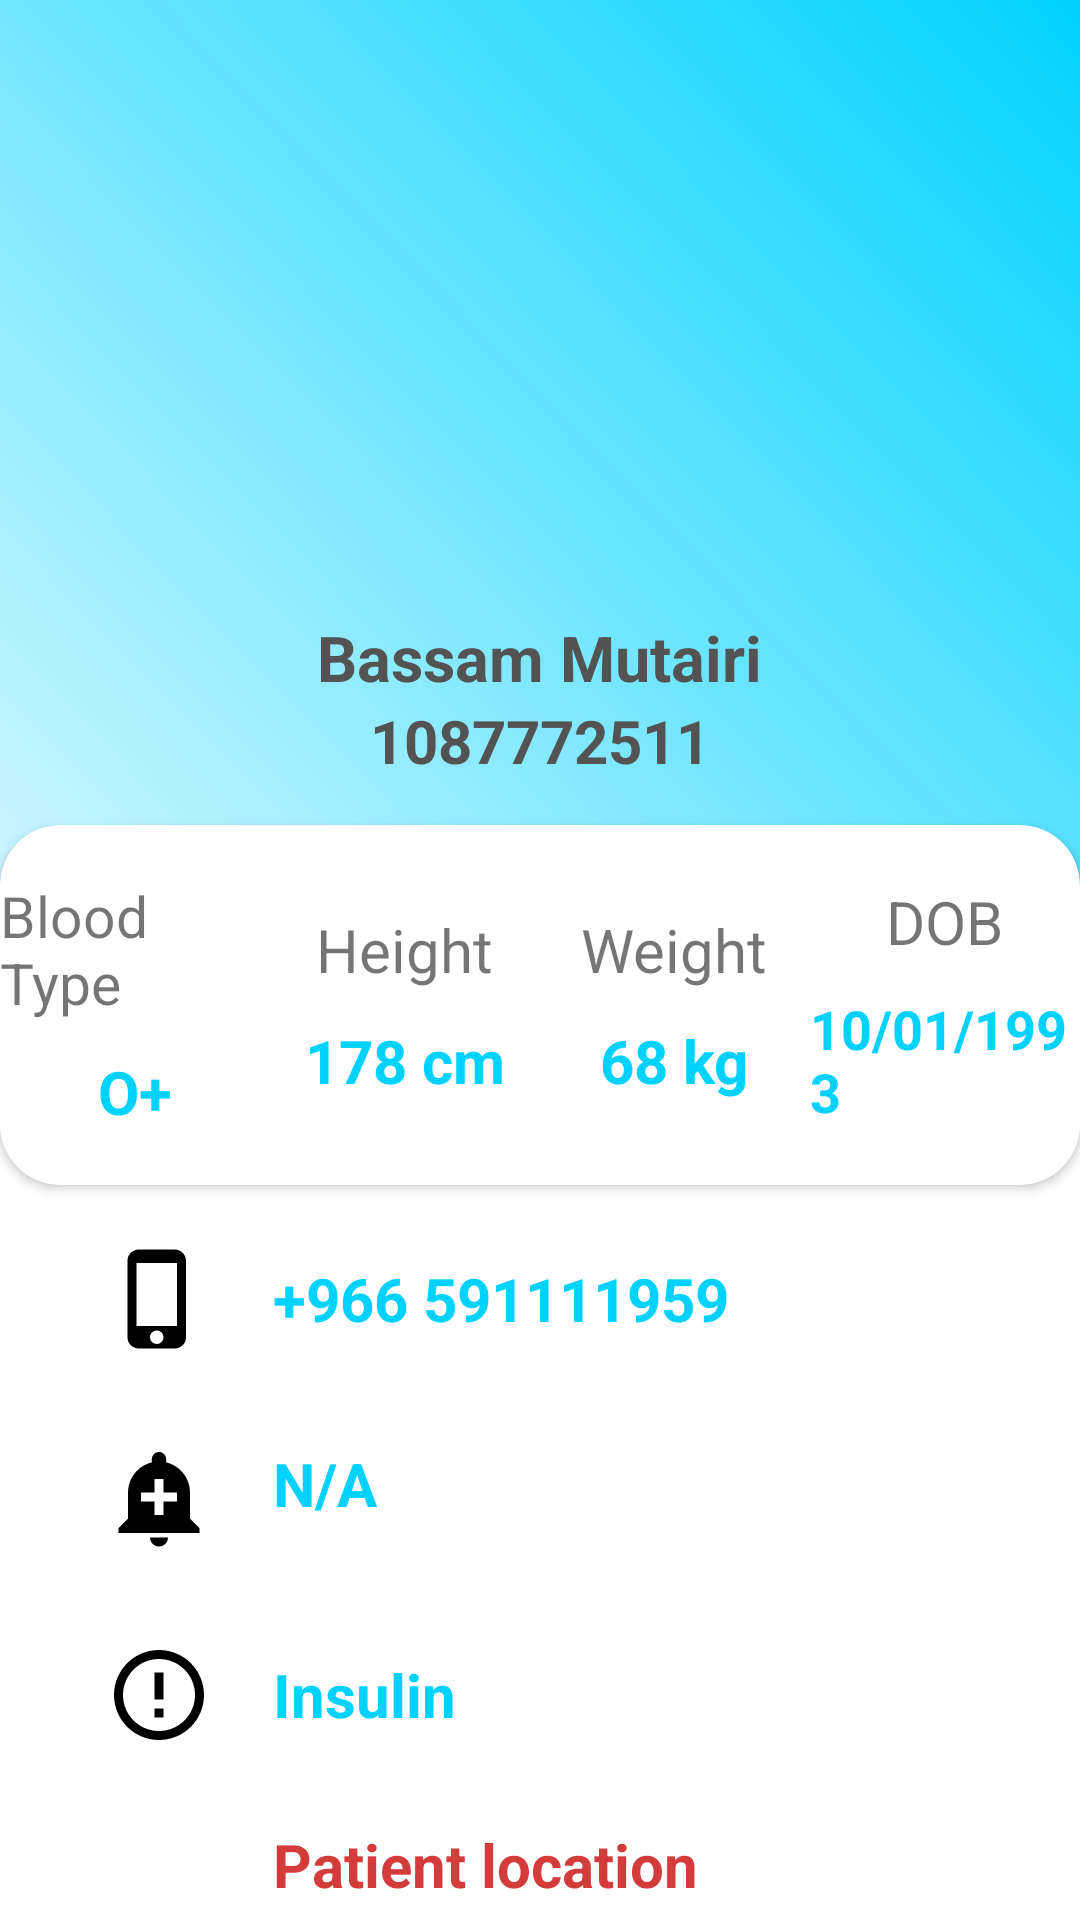

Icon bounding boxes for this 1080 × 1920 phone screenshot, format (x1, y1, x2, y2):
iphoneicon: (127, 1249, 186, 1349)
